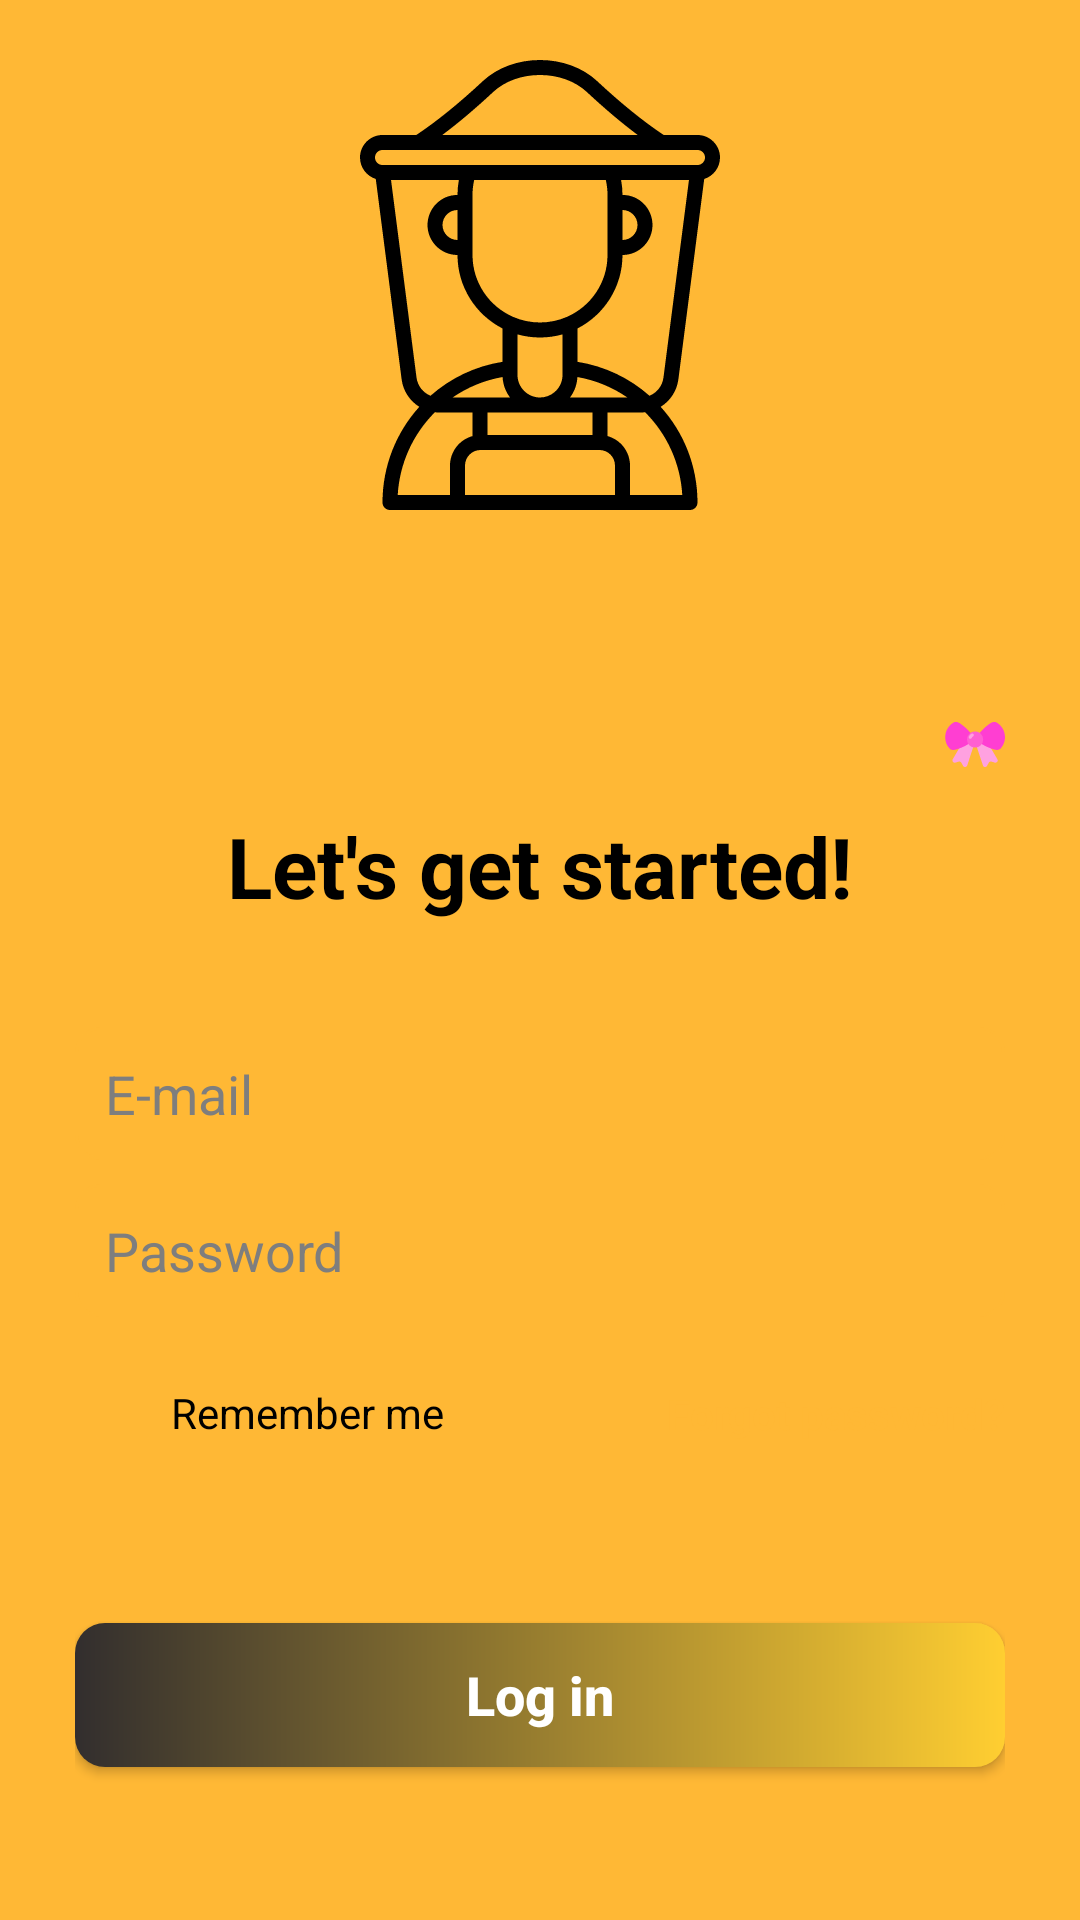

Icon bounding boxes for this 1080px×1920px phone screenshot, format (x1, y1, x2, y2):
bow: (945, 722, 1005, 767)
